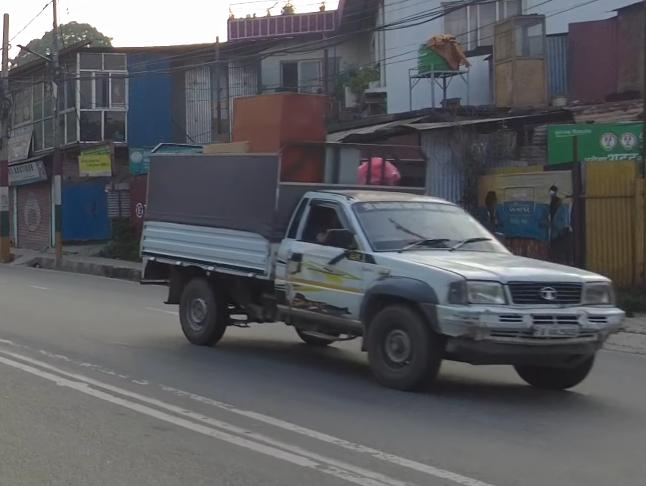transport_vehicle: (137, 133, 628, 411)
